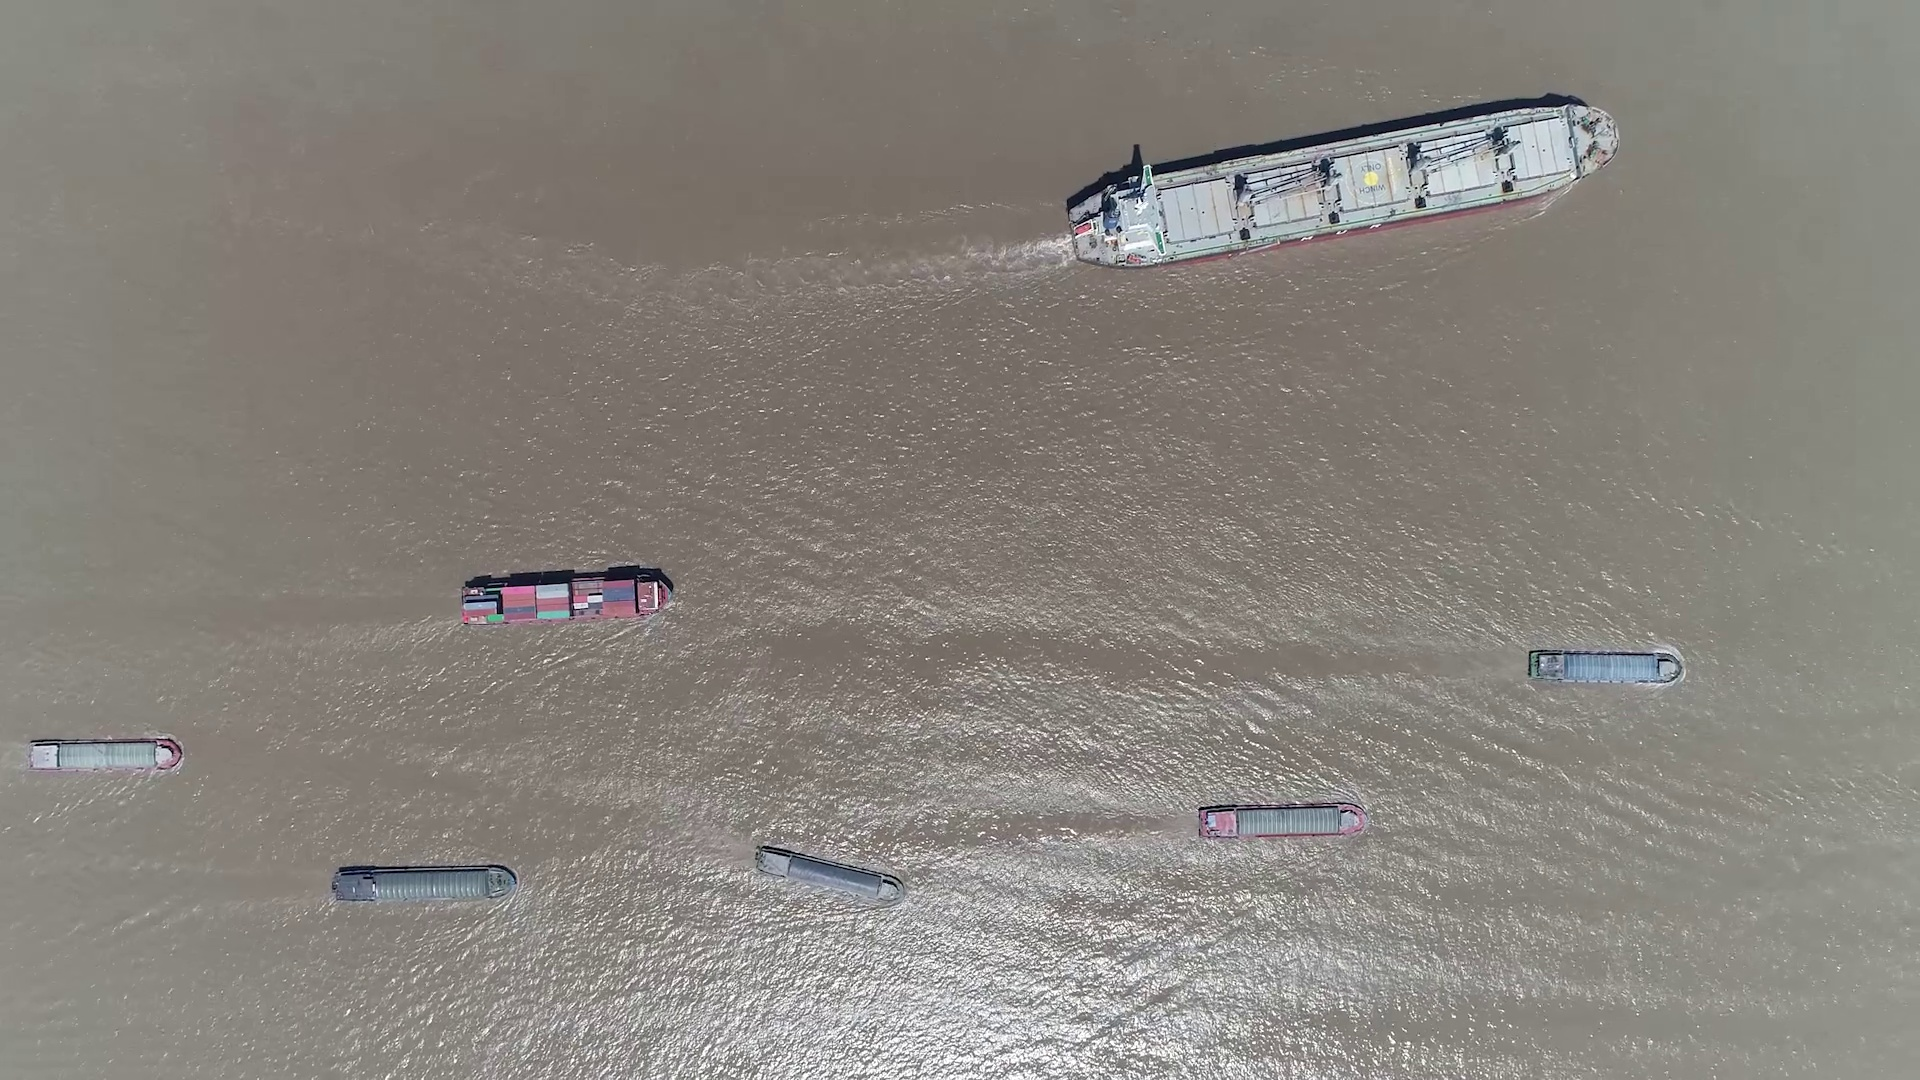ship: (1068, 105, 1619, 265), (459, 572, 673, 626), (754, 845, 903, 903), (334, 865, 516, 902), (1199, 802, 1367, 840), (1527, 649, 1683, 686), (26, 738, 183, 773)
